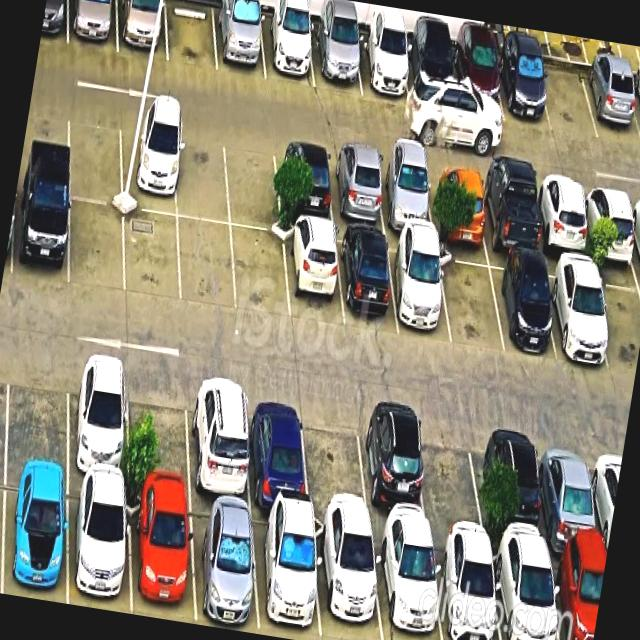car: (118, 501, 198, 622), (185, 512, 265, 632), (173, 404, 254, 518), (248, 521, 324, 640), (59, 496, 134, 612), (0, 485, 74, 602), (352, 422, 428, 534), (58, 388, 136, 497), (311, 534, 390, 640), (242, 418, 312, 531), (476, 432, 546, 544), (372, 541, 448, 640), (549, 266, 618, 374), (532, 449, 602, 554), (388, 242, 456, 343), (494, 259, 560, 361), (490, 557, 570, 640), (434, 548, 506, 640), (115, 114, 185, 208), (428, 154, 492, 256), (480, 169, 544, 270), (338, 230, 401, 331), (268, 138, 337, 228), (278, 226, 344, 320), (531, 180, 592, 278), (580, 185, 640, 284), (402, 16, 463, 112), (10, 194, 75, 282), (357, 6, 415, 102), (498, 27, 554, 126), (451, 25, 509, 119), (582, 40, 640, 133), (310, 0, 368, 92), (374, 154, 434, 242), (210, 0, 272, 82), (261, 0, 320, 85), (328, 148, 386, 232), (114, 0, 172, 55), (66, 0, 122, 50)
free: (0, 367, 77, 486), (120, 394, 196, 504), (295, 424, 373, 528), (414, 430, 484, 538), (436, 258, 508, 352), (172, 126, 235, 224), (117, 205, 184, 297), (63, 203, 131, 293), (60, 118, 126, 205), (226, 134, 288, 226), (225, 224, 289, 312), (538, 43, 598, 132), (174, 216, 236, 300), (161, 0, 225, 72)
